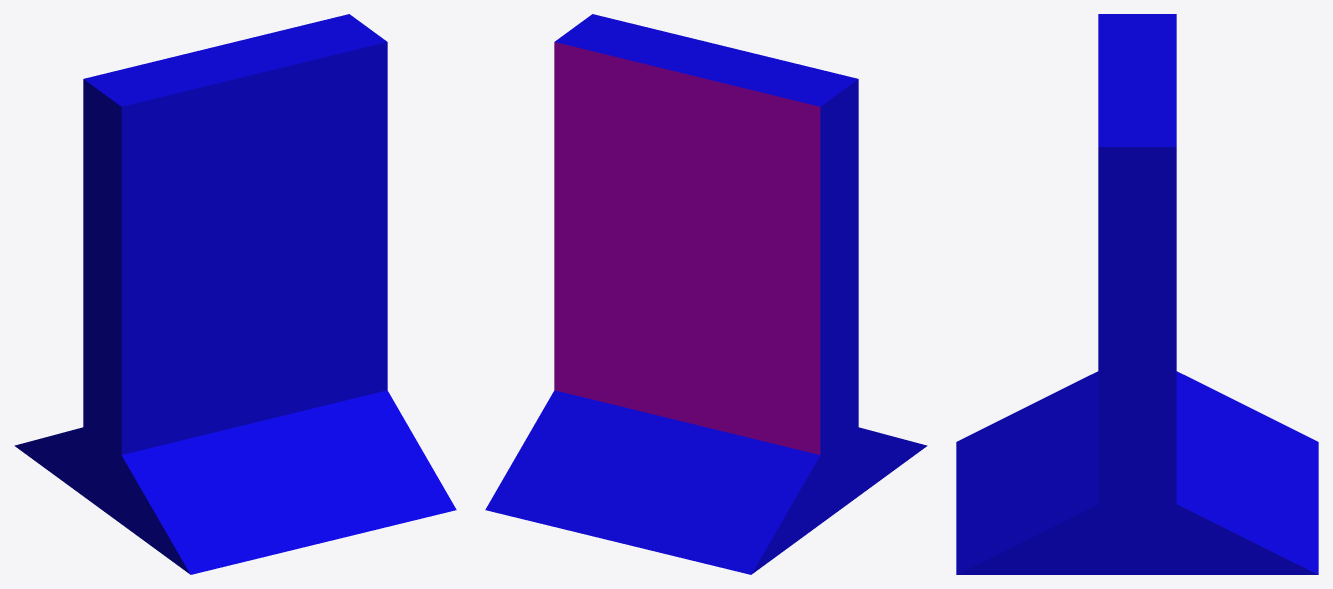
Rendered from ExternalFileLoaderTest.fbx.
3 views of the same model, side by side, from view 1: azimuth 30°, elevation 25°; view 2: azimuth 150°, elevation 25°; view 3: azimuth 270°, elevation 25° (orthographic). The views are drawn at different scales.
Visible parts, largest first — view 1: Cube; view 2: Cube; view 3: Cube.
Part boxes in pixels (x1,y1,x2,y2): Cube: [14, 14, 456, 574]; Cube: [485, 14, 927, 574]; Cube: [956, 14, 1318, 574].
Size of the model in its own units: 4 by 5.99 by 4.59.
